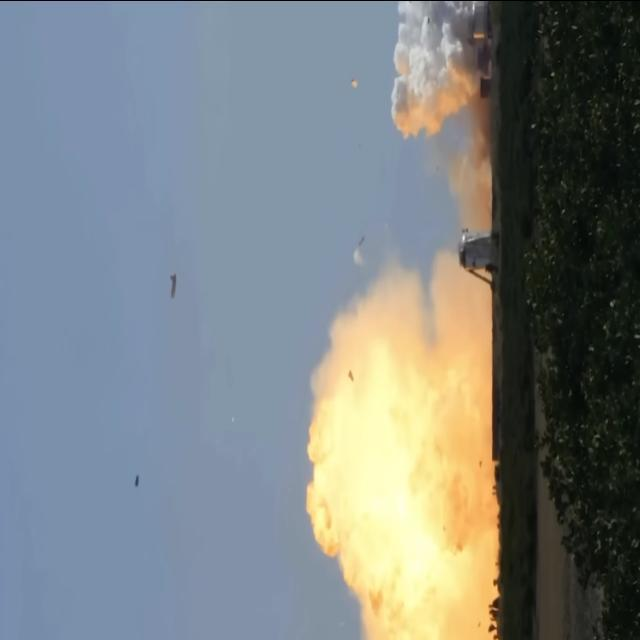Missile: (168, 267, 180, 303), (356, 233, 368, 255), (134, 473, 141, 489)
